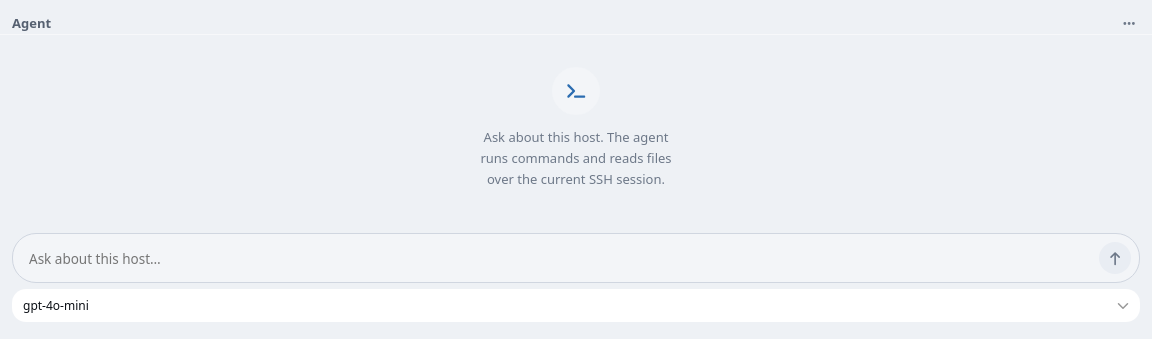
Test: AgentPanel prompting › shows a stop button while running and aborts through the API
The width and height of the screenshot is (1152, 339).
Type "tail the log" into the text box named "Agent" at (560, 260), box [29, 245, 1091, 274]
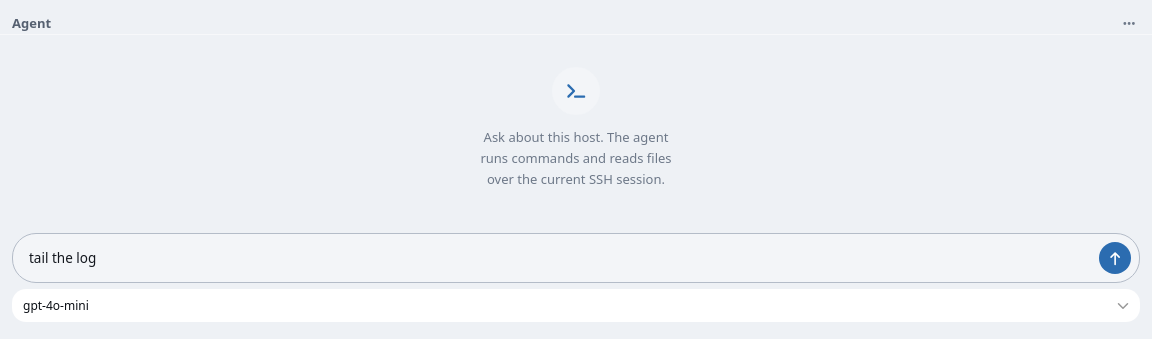
Click the button named "Send" at (1115, 258), box [1099, 242, 1131, 274]
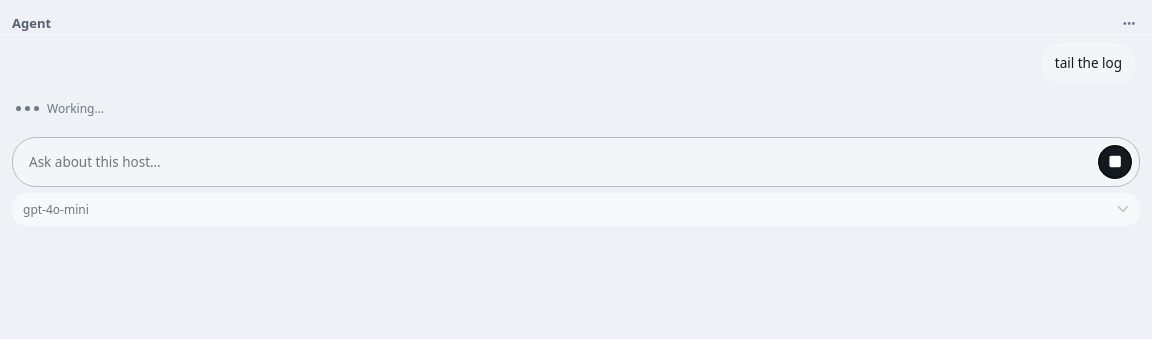
Click the button named "Stop" at (1115, 162), box [1099, 146, 1131, 178]
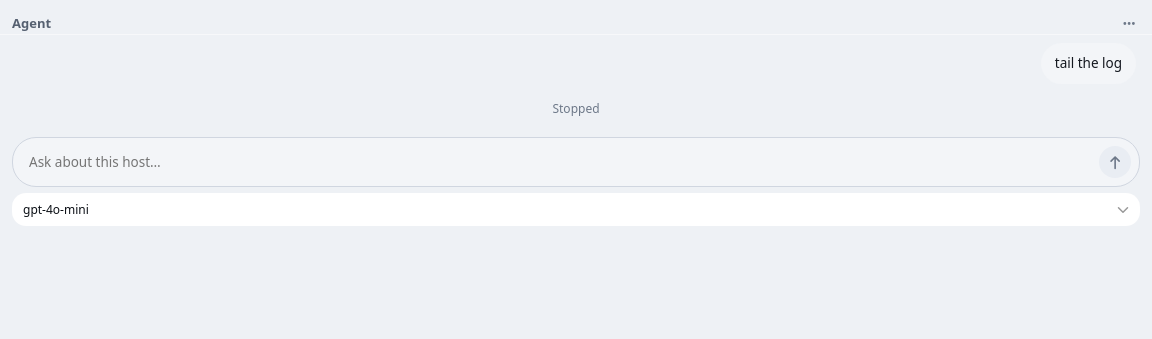
Now the text "Stopped" is shown, box [552, 100, 600, 117]
